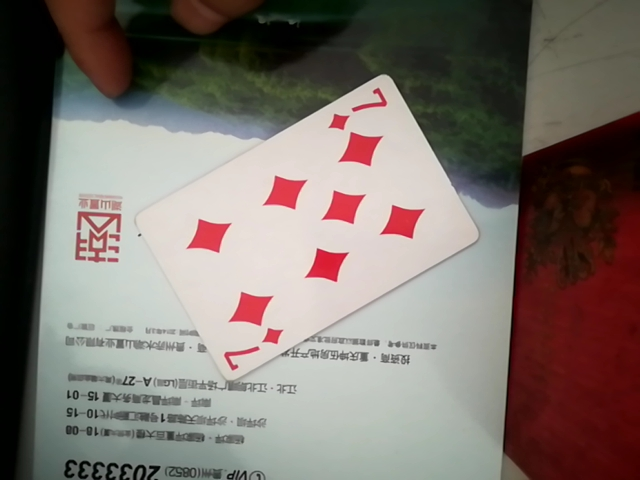fk 7: (120, 77, 488, 378)
